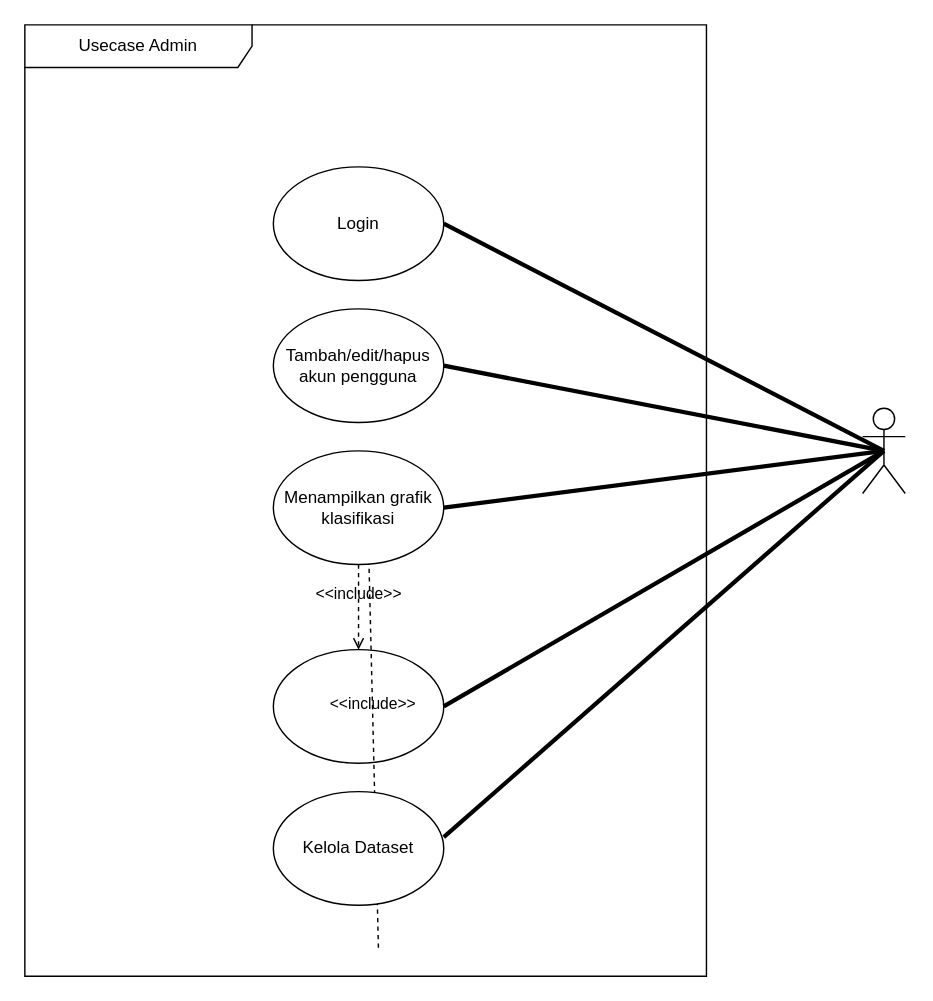
Some shapes in this 933 by 1001 pixel diagram are drawn without their labels. Here are the shapes that lost their labels. From the top down, the box of each, then its label:
(861, 407, 905, 493): Admin
(272, 648, 444, 763): Lihat Total Upload
